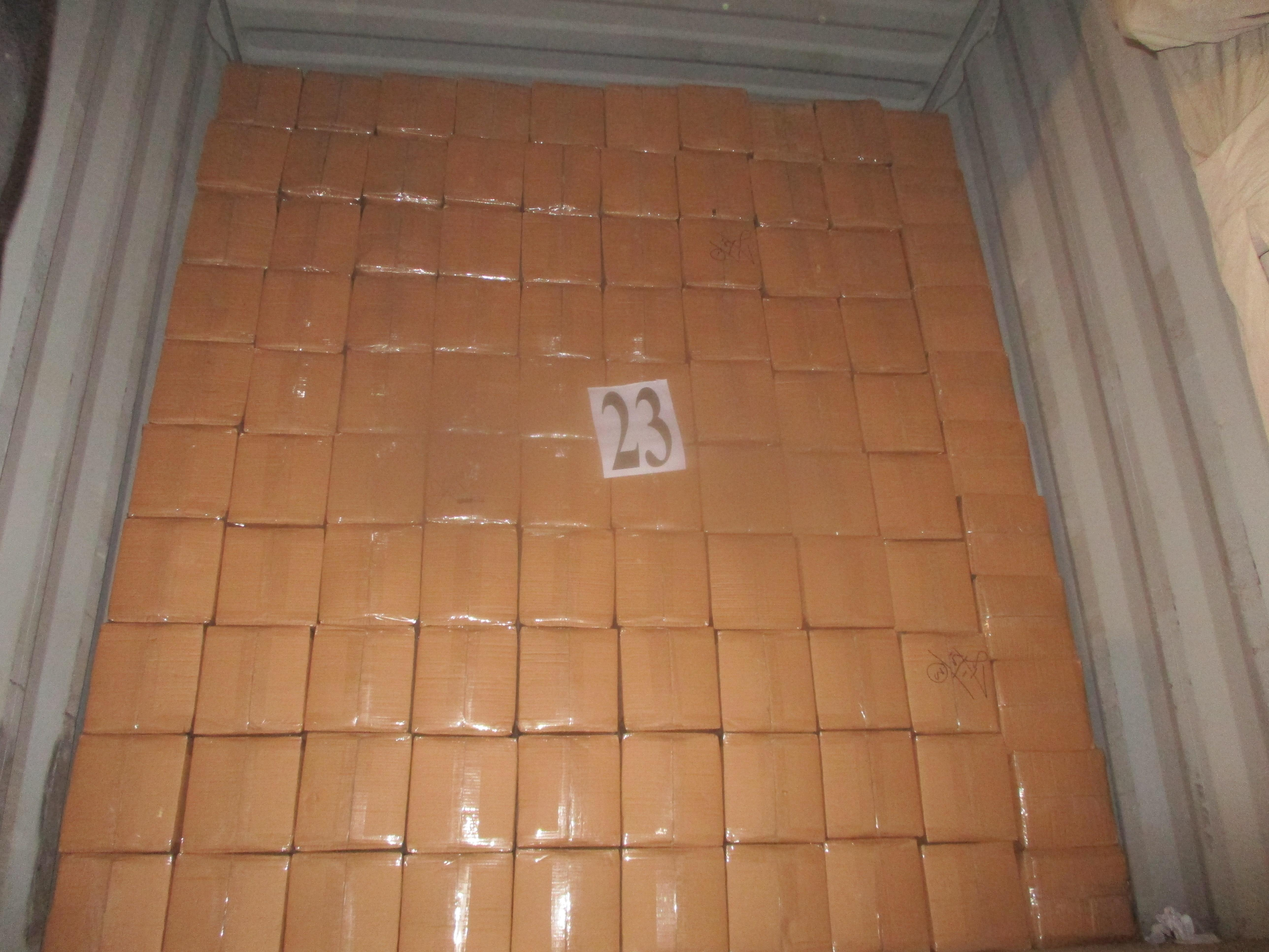carton: (59, 733, 192, 853), (293, 732, 413, 852), (181, 735, 303, 853), (84, 623, 205, 734), (405, 735, 518, 853), (194, 626, 313, 735), (41, 853, 172, 952), (160, 853, 289, 952), (108, 518, 225, 624), (281, 851, 403, 952), (304, 625, 417, 732), (825, 838, 931, 952), (516, 733, 621, 848), (1018, 847, 1138, 947), (920, 842, 1030, 951), (411, 625, 518, 736), (620, 732, 723, 847), (397, 852, 514, 952), (725, 843, 831, 952), (914, 733, 1018, 844), (511, 848, 621, 952), (722, 732, 825, 843), (819, 730, 923, 839), (621, 847, 728, 952), (214, 524, 324, 626), (516, 626, 619, 733), (1010, 749, 1119, 849), (318, 523, 423, 626), (618, 626, 720, 732), (128, 424, 238, 519), (808, 629, 910, 731), (716, 629, 817, 732), (420, 521, 519, 626), (899, 631, 999, 734), (518, 526, 616, 628), (228, 433, 334, 526), (992, 657, 1094, 751), (705, 533, 803, 630), (614, 529, 710, 627), (326, 433, 427, 524), (796, 535, 894, 628), (148, 340, 253, 426), (972, 575, 1078, 659), (884, 540, 979, 633), (423, 433, 520, 524), (519, 435, 612, 529), (243, 349, 344, 435), (698, 444, 791, 534), (867, 453, 962, 540), (957, 493, 1056, 576), (337, 349, 433, 434), (255, 269, 352, 353), (783, 451, 878, 536), (610, 443, 700, 531), (165, 264, 264, 343), (605, 361, 698, 445), (689, 360, 780, 444), (430, 350, 520, 434), (181, 191, 279, 268), (941, 420, 1039, 497), (853, 373, 944, 453), (519, 355, 606, 438), (775, 371, 864, 452), (345, 273, 435, 352), (269, 197, 361, 274), (433, 276, 520, 355), (196, 121, 290, 193), (839, 297, 927, 373), (681, 288, 771, 362), (280, 129, 371, 202), (602, 286, 687, 364), (518, 282, 604, 359), (762, 296, 850, 371), (927, 350, 1019, 421), (355, 202, 442, 276), (438, 206, 522, 280), (912, 285, 1003, 352), (443, 136, 525, 209), (678, 219, 762, 290), (215, 61, 302, 129), (520, 213, 602, 285), (899, 223, 989, 288), (363, 135, 447, 204), (522, 143, 601, 216), (601, 217, 682, 288), (599, 148, 679, 219), (674, 151, 754, 222), (748, 159, 829, 229), (757, 227, 838, 297), (819, 162, 901, 229), (296, 70, 380, 135), (832, 229, 910, 298), (376, 72, 456, 138), (604, 83, 679, 153), (677, 84, 752, 153), (529, 80, 605, 146), (816, 99, 891, 165), (452, 78, 530, 141), (892, 166, 973, 225), (750, 101, 823, 163), (885, 109, 958, 167)
